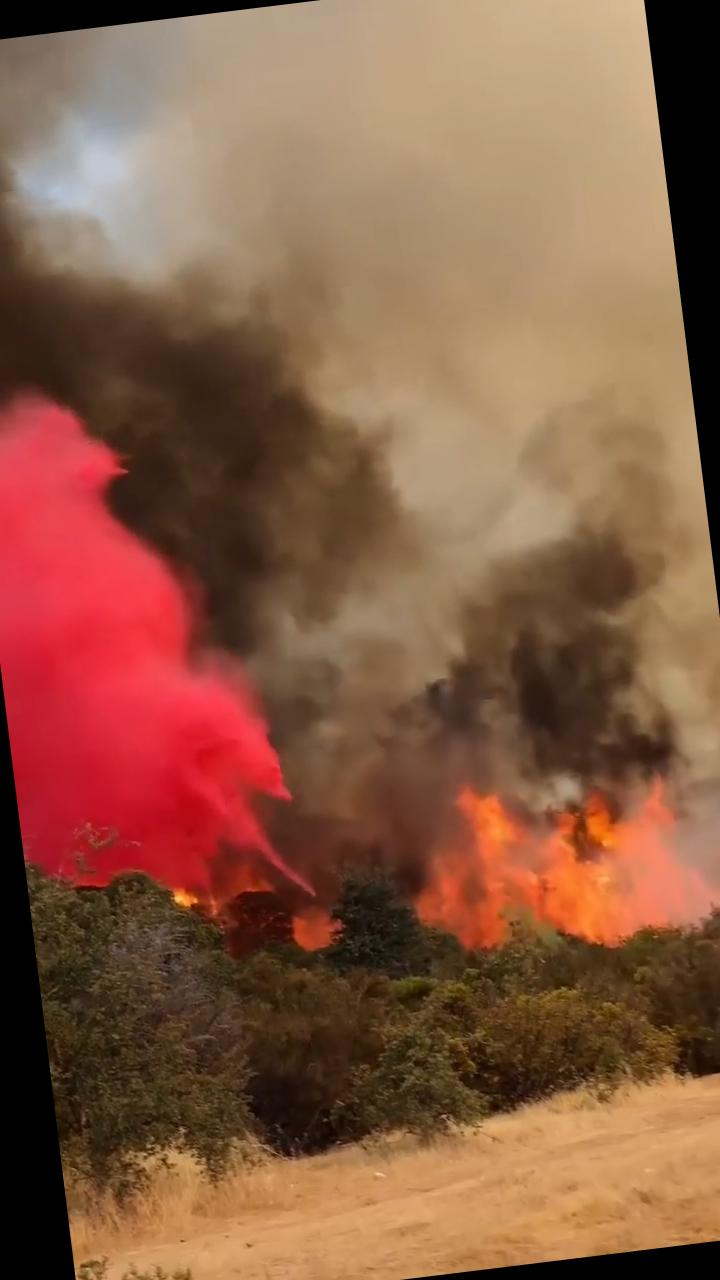Fire: (416, 732, 720, 967)
Smoke: (171, 246, 720, 851), (0, 0, 681, 391)
